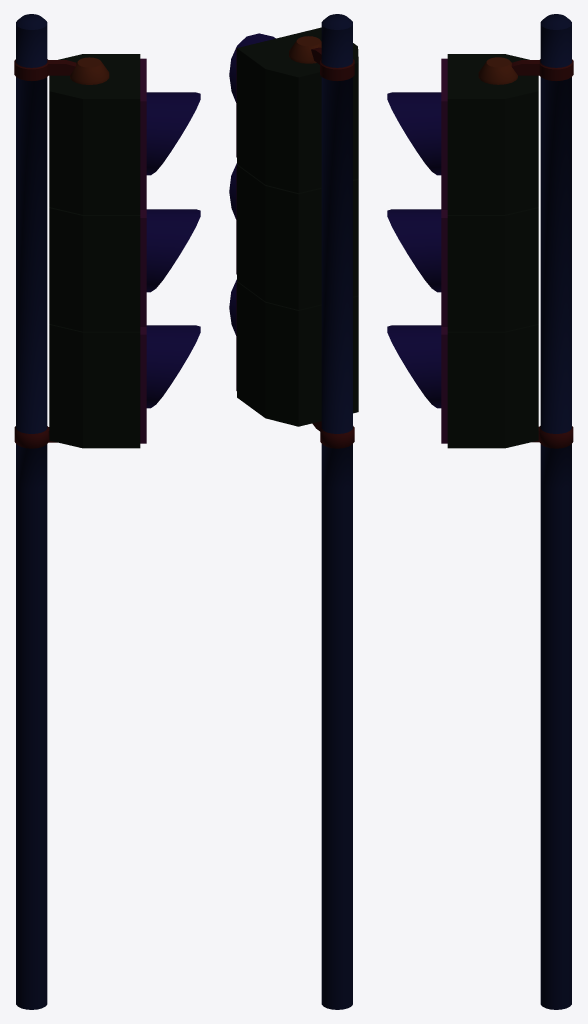
Rendered from Traffic Light.FBX.
3 views of the same model, side by side, from view 1: azimuth 90°, elevation 25°; view 2: azimuth 210°, elevation 25°; view 3: azimuth 270°, elevation 25° (orthographic).
Parts seen in each view (by area): view 1: Cylinder005; view 2: Cylinder005; view 3: Cylinder005.
Boxes of the visible parts, x1,y1,x2,y2 form: Cylinder005: (14,14,200,1009); Cylinder005: (229,14,358,1009); Cylinder005: (387,14,573,1009).
Bounding box in the file's own units: 0.3351 × 3.4 × 0.5831.
